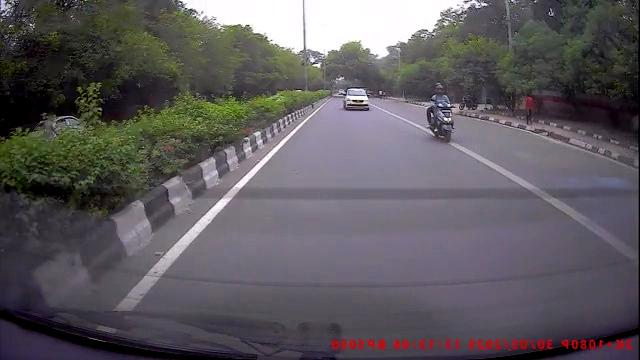passenger_with_helmet: (426, 82, 456, 144)
